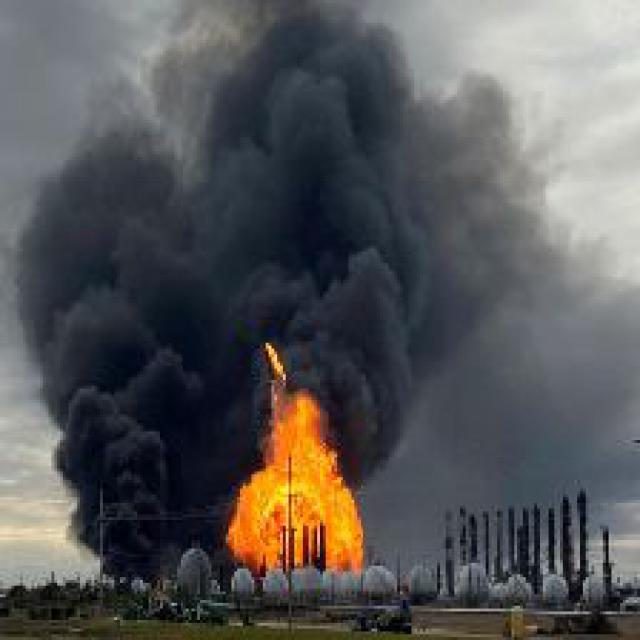fire: (206, 323, 377, 580)
